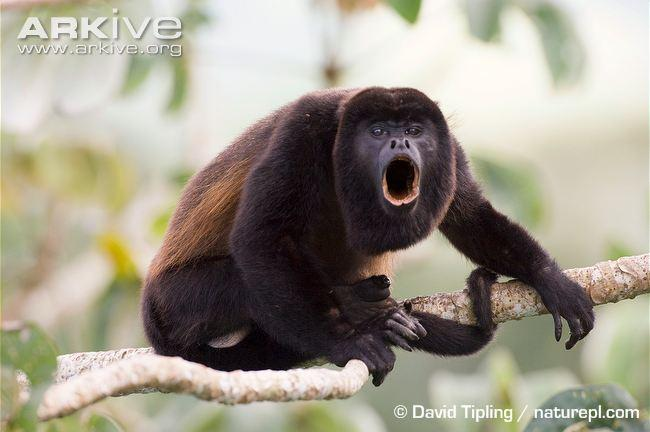monkey: (139, 87, 597, 384)
